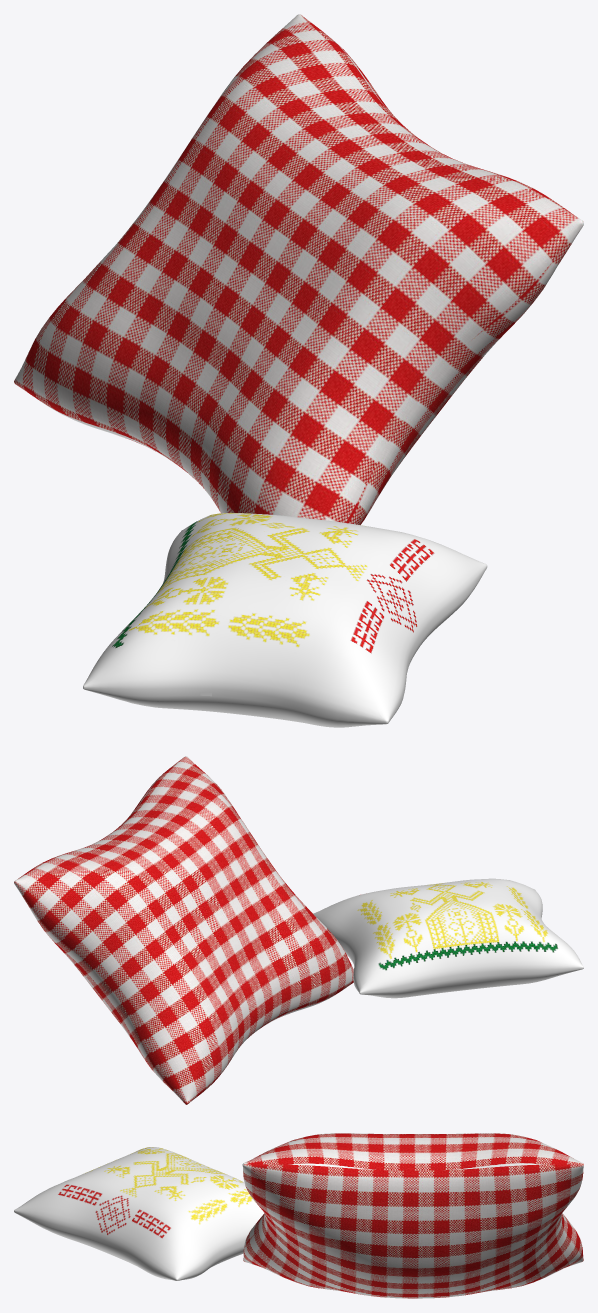
File: pilo.glb
The picture shows the model from 3 angles, top to bottom: view 1: azimuth 30°, elevation 25°; view 2: azimuth 150°, elevation 25°; view 3: azimuth 270°, elevation 25°; orthographic projection. The views are drawn at different scales.
Visible parts, largest first — view 1: Object_2; view 2: Object_2; view 3: Object_2.
Boxes of the visible parts, bbox=[...] form: Object_2: bbox=[14, 14, 583, 727]; Object_2: bbox=[14, 756, 583, 1104]; Object_2: bbox=[14, 1133, 583, 1298].
Bounding box in the file's own units: 5.54 × 2.85 × 7.78.
Materials: 1 (1 with a texture image).
